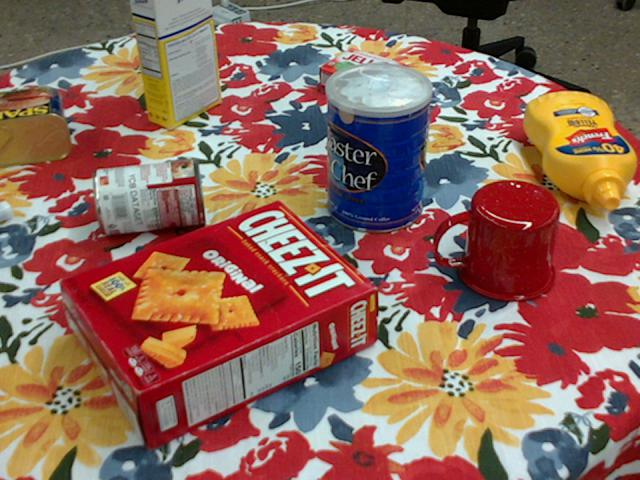cracker_box: (57, 202, 375, 451)
gelatin_box: (316, 50, 404, 104)
large_marker: (0, 200, 12, 220)
master_chef_can: (325, 63, 431, 234)
mug: (434, 180, 559, 303)
mustard_bottle: (522, 90, 634, 209)
potted_meat_can: (0, 86, 70, 165)
sugar_box: (131, 0, 220, 127)
tomato_soup_can: (91, 158, 203, 235)
tuna_fish_can: (356, 97, 430, 156)
